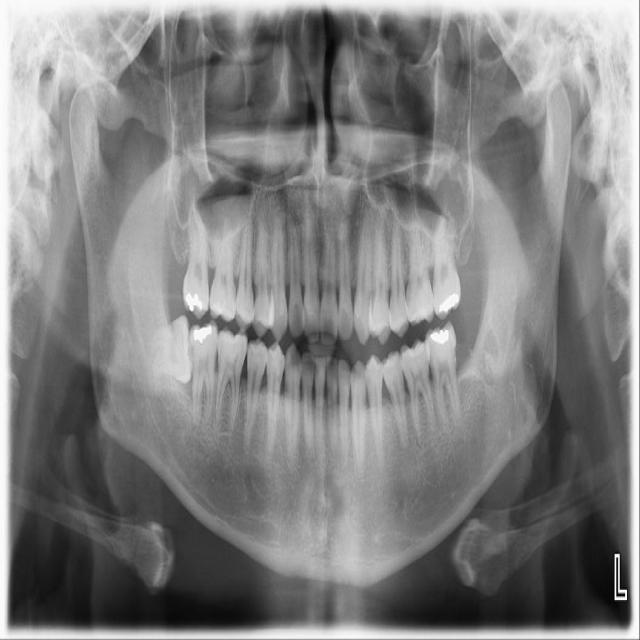Filling: (439, 293, 459, 315), (193, 324, 212, 344), (186, 293, 202, 312), (431, 330, 449, 344)
impacted tooth: (146, 314, 190, 383)
